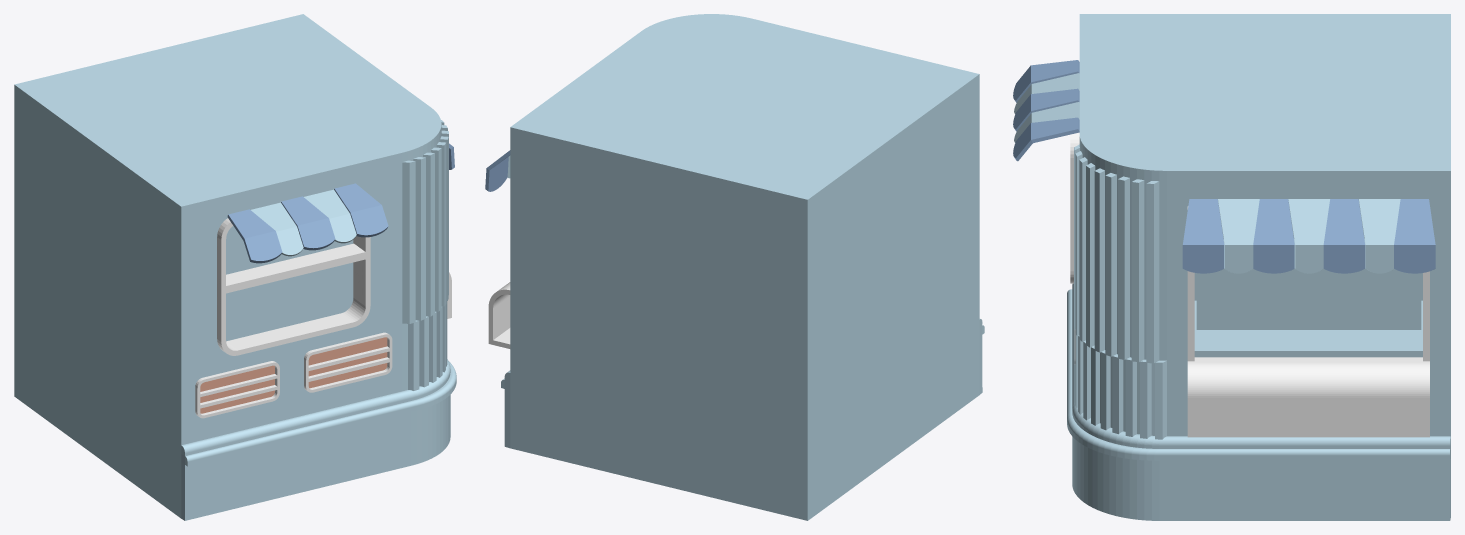
3 renders of one model, left to right at view 1: azimuth 30°, elevation 25°; view 2: azimuth 150°, elevation 25°; view 3: azimuth 270°, elevation 25°, orthographic. The views are drawn at different scales.
Parts seen in each view (by area): view 1: B11, Plane.016, Plane.017; view 2: B11, B11_ROOF1; view 3: B11, B11_ROOF1, B11_ROOF2, Plane.016, Plane.017.
Boxes of the visible parts, x1,y1,x2,y2 form: B11: [14, 14, 456, 520]; Plane.016: [227, 183, 388, 263]; Plane.017: [251, 189, 356, 256]; B11: [488, 14, 984, 520]; B11_ROOF1: [485, 150, 510, 191]; B11: [1067, 14, 1450, 520]; B11_ROOF1: [1182, 199, 1435, 273]; B11_ROOF2: [1218, 199, 1400, 273]; Plane.016: [1013, 60, 1079, 161]; Plane.017: [1014, 73, 1079, 142].
Size of the model in its own units: 9437 by 8780 by 10038.
